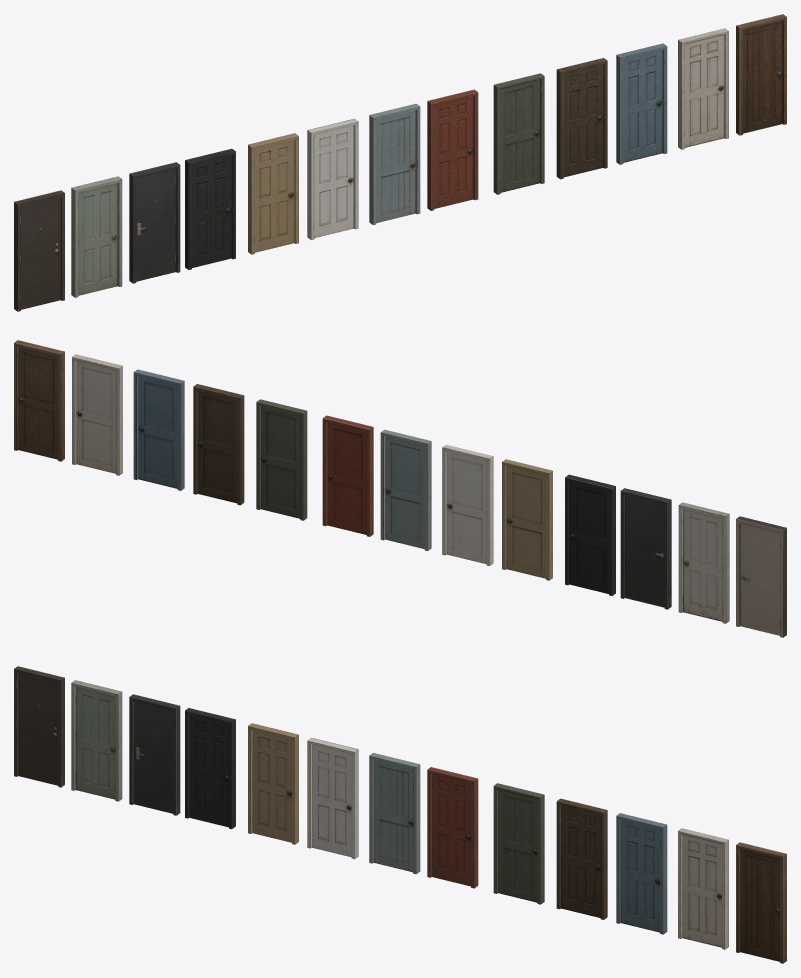
File: psx_doors_pack.glb
3 views of the same model, one above another, from view 1: azimuth 30°, elevation 25°; view 2: azimuth 150°, elevation 25°; view 3: azimuth 330°, elevation 25° (orthographic).
Visible parts, largest first — view 1: Door#2, Door#8, Door#9, Door#10, Door#11, Door#3, Door#6, Door#7, Door#12, Door#1, Door#13, Door#5 (+1 smaller); view 2: Door#2, Door#8, Door#9, Door#10, Door#11, Door#3, Door#6, Door#7, Door#12, Door#1, Door#13, Door#5 (+1 smaller); view 3: Door#2, Door#9, Door#10, Door#6, Door#8, Door#11, Door#3, Door#7, Door#12, Door#1, Door#13, Door#5 (+1 smaller).
Part boxes in pixels (left/top/right/bottom): Door#2: left=71, top=176, right=122, bottom=297; Door#8: left=427, top=89, right=478, bottom=210; Door#9: left=493, top=73, right=544, bottom=194; Door#10: left=556, top=58, right=607, bottom=179; Door#11: left=616, top=43, right=667, bottom=164; Door#3: left=129, top=162, right=180, bottom=283; Door#6: left=307, top=118, right=358, bottom=239; Door#7: left=369, top=103, right=420, bottom=224; Door#12: left=678, top=28, right=728, bottom=149; Door#1: left=14, top=190, right=64, bottom=311; Door#13: left=736, top=14, right=786, bottom=135; Door#5: left=248, top=133, right=298, bottom=254; Door#2: left=678, top=502, right=729, bottom=623; Door#8: left=322, top=415, right=373, bottom=536; Door#9: left=256, top=399, right=307, bottom=520; Door#10: left=193, top=384, right=244, bottom=505; Door#11: left=133, top=369, right=184, bottom=490; Door#3: left=620, top=488, right=671, bottom=609; Door#6: left=442, top=444, right=493, bottom=565; Door#7: left=380, top=429, right=431, bottom=550; Door#12: left=72, top=354, right=122, bottom=475; Door#1: left=736, top=516, right=786, bottom=637; Door#13: left=14, top=340, right=64, bottom=461; Door#5: left=502, top=459, right=552, bottom=580; Door#2: left=71, top=680, right=122, bottom=801; Door#9: left=493, top=783, right=544, bottom=904; Door#10: left=556, top=798, right=607, bottom=919; Door#6: left=307, top=738, right=358, bottom=859; Door#8: left=427, top=767, right=478, bottom=888; Door#11: left=616, top=813, right=667, bottom=934; Door#3: left=129, top=694, right=180, bottom=815; Door#7: left=369, top=753, right=420, bottom=874; Door#12: left=678, top=828, right=728, bottom=949; Door#1: left=14, top=666, right=64, bottom=787; Door#13: left=736, top=842, right=786, bottom=963; Door#5: left=248, top=723, right=298, bottom=844.
Bounding box in the file's own units: 39.76 × 5.3 × 0.3468.
Materials: 1 (1 with a texture image).
